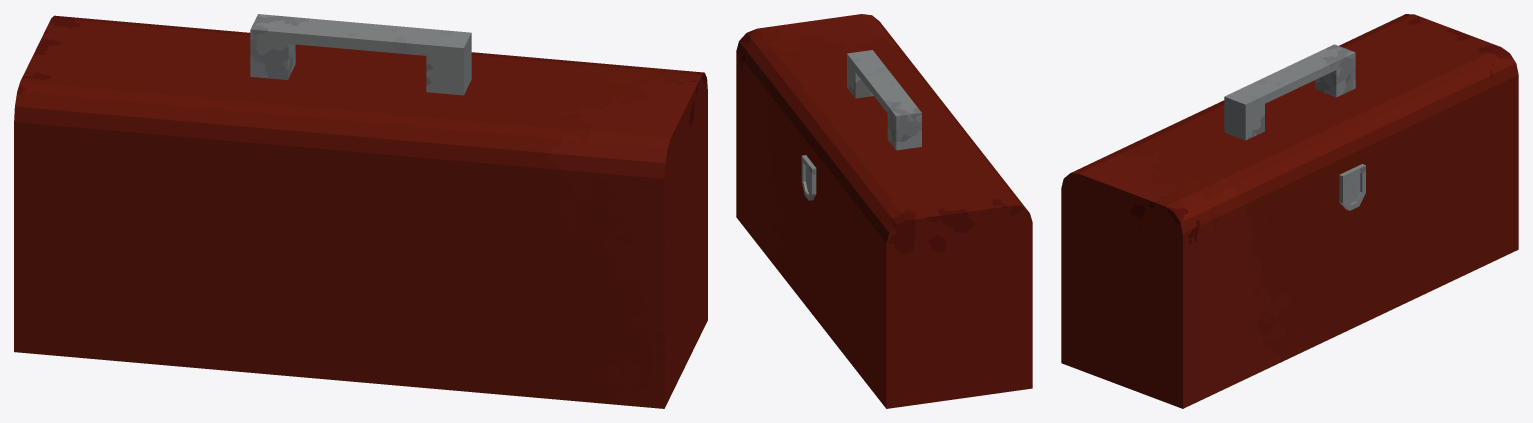
File: Toolbox Export.glb
The picture shows the model from 3 angles, left to right: view 1: azimuth 30°, elevation 25°; view 2: azimuth 150°, elevation 25°; view 3: azimuth 270°, elevation 25°; orthographic projection. The views are drawn at different scales.
Parts seen in each view (by area): view 1: Cube.010; view 2: Cube.010; view 3: Cube.010.
Boxes of the visible parts, box(x1,y1,x2,y2) form: Cube.010: box(14, 14, 707, 408); Cube.010: box(736, 14, 1032, 408); Cube.010: box(1061, 14, 1518, 408).
Size of the model in its own units: 3.62 by 1.91 by 3.41.
1 material, 1 textured.
